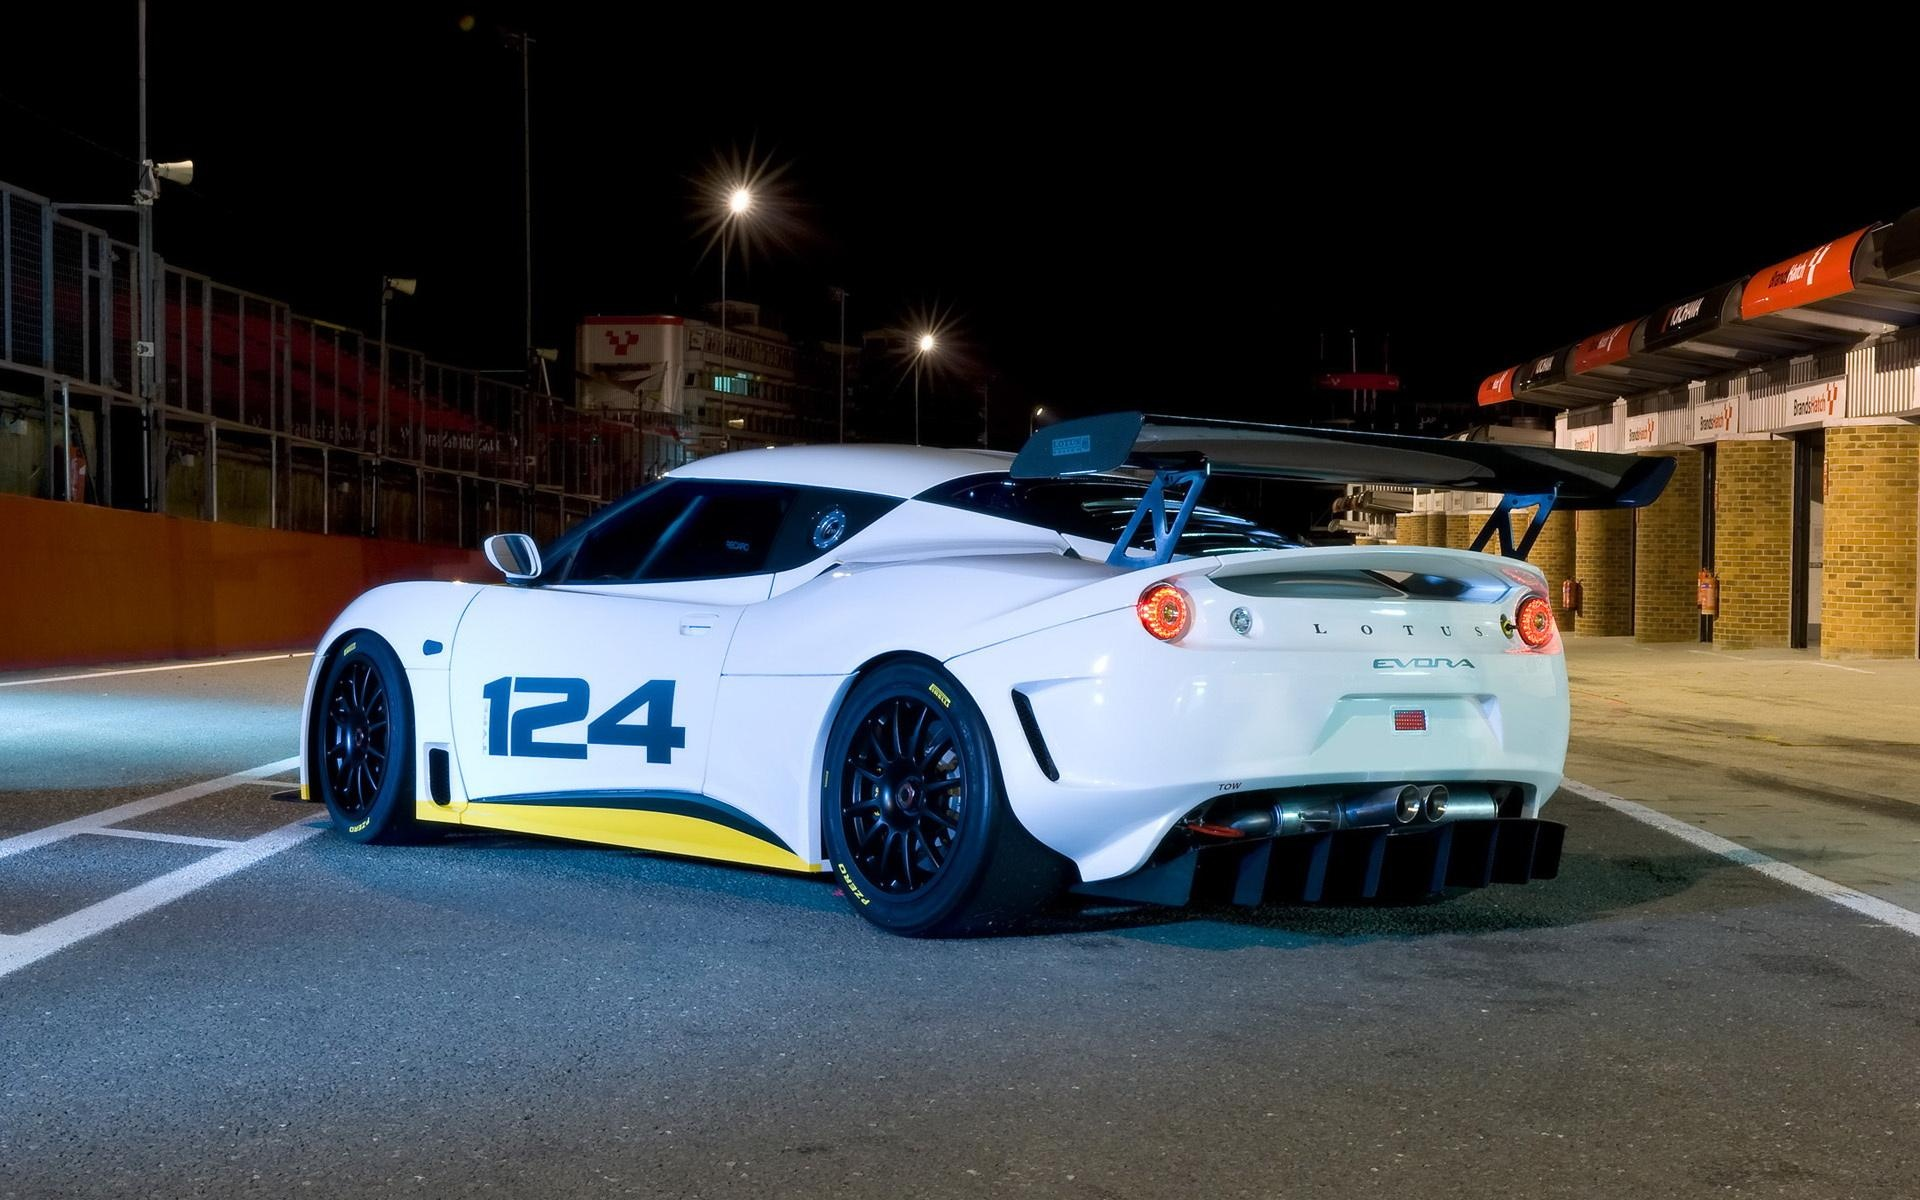racing car: (296, 401, 1659, 954)
